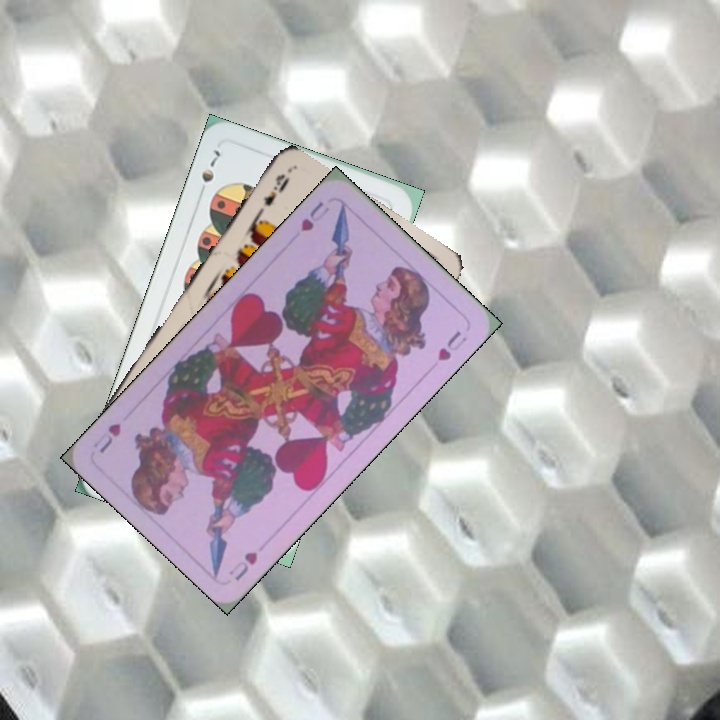E9: (252, 170, 293, 221)
HU: (296, 197, 333, 234), (224, 547, 261, 584)
S7: (194, 145, 223, 200)
